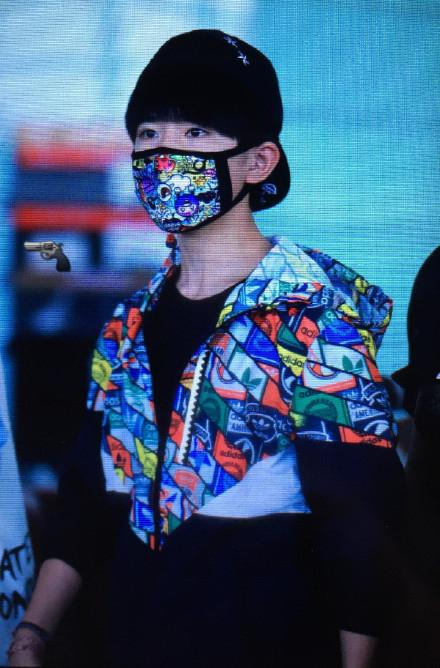OK: (124, 101, 252, 229)
